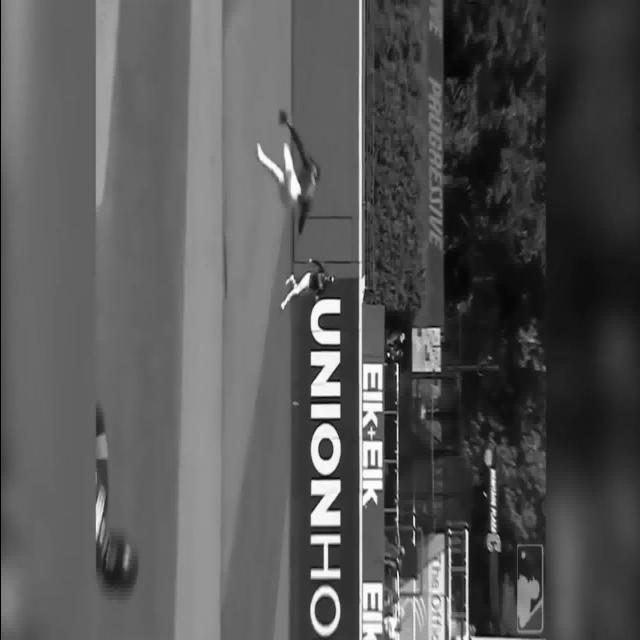baseball_glove: (278, 108, 290, 125)
shoe: (256, 142, 262, 162), (284, 274, 294, 284)
